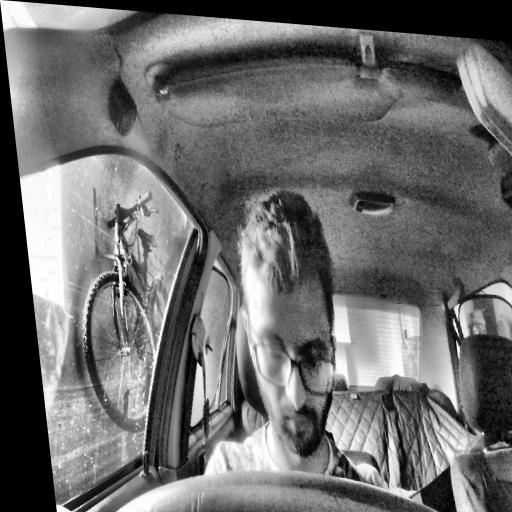drowsy: (228, 185, 355, 465)
